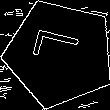L_E: (30, 32, 89, 75)
